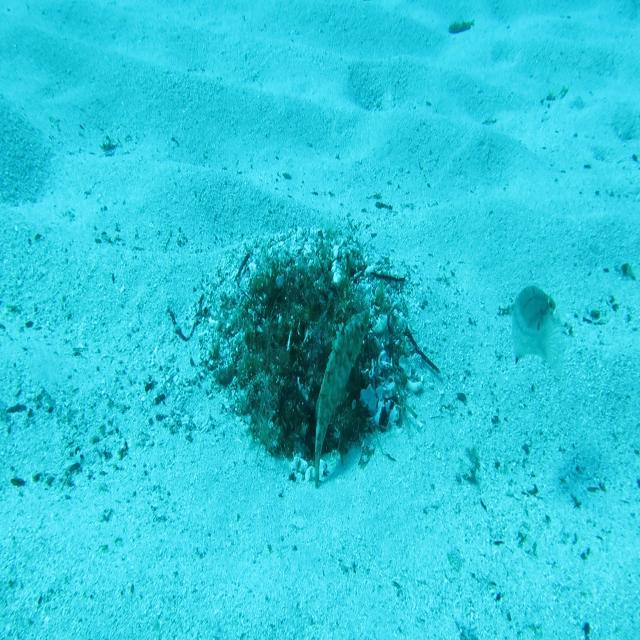LF: (310, 304, 372, 493)
core_nest: (279, 286, 332, 318)
female: (502, 284, 562, 379)
nest: (207, 222, 441, 496)
vegetation: (447, 18, 474, 34)
